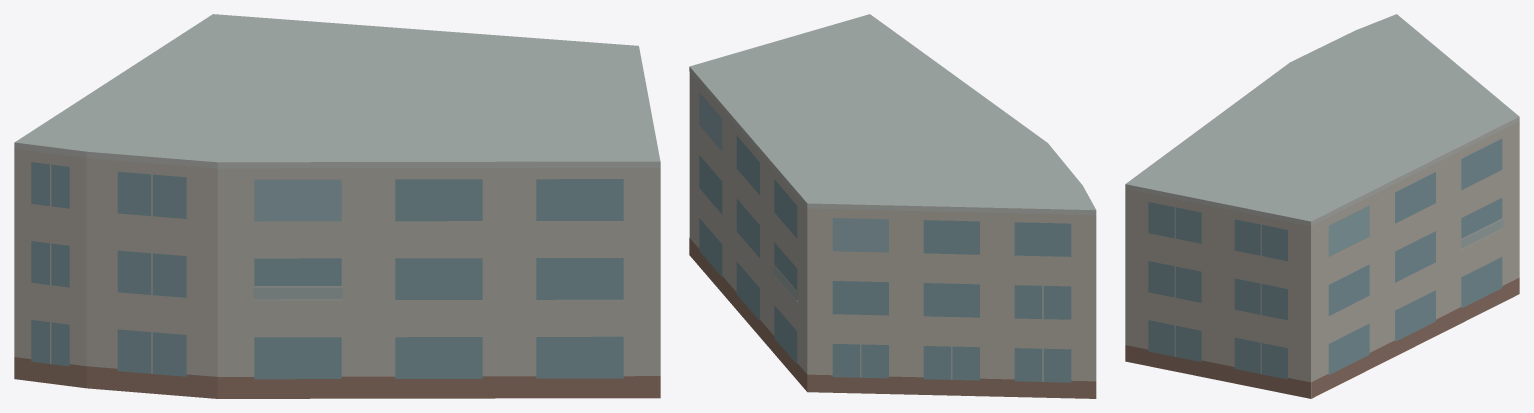
File: survey-upis-32475070.glb
3 renders of one model, left to right at view 1: azimuth 30°, elevation 25°; view 2: azimuth 150°, elevation 25°; view 3: azimuth 270°, elevation 25°, orthographic. The views are drawn at different scales.
Visible parts, largest first — view 1: survey-upis-32475070.tmp; view 2: survey-upis-32475070.tmp; view 3: survey-upis-32475070.tmp.
Part boxes in pixels (<box>): survey-upis-32475070.tmp: <box>14,14,660,398</box>; survey-upis-32475070.tmp: <box>689,14,1096,398</box>; survey-upis-32475070.tmp: <box>1125,14,1519,398</box>.
Size of the model in its own units: 22.97 by 9.15 by 18.44.
